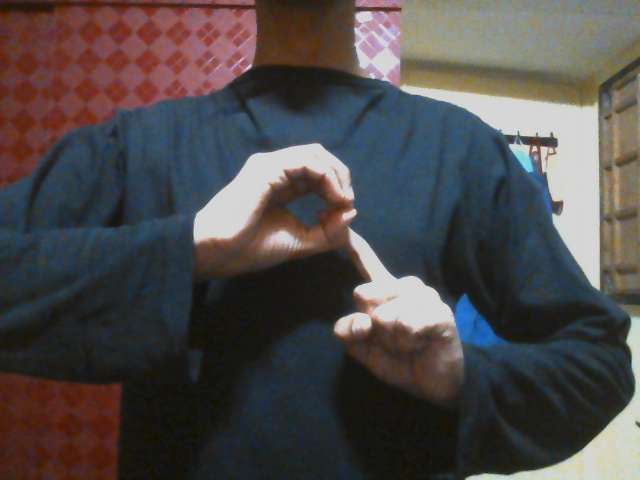Q: (207, 139, 452, 408)
